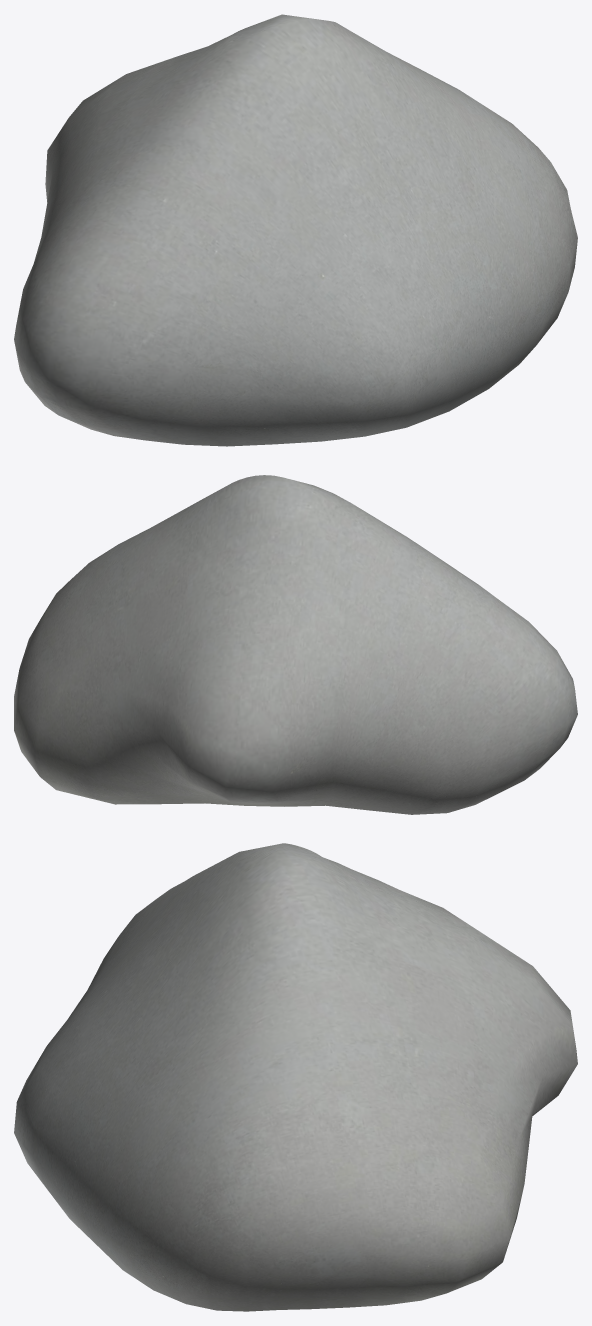
File: salt.glb
3 views of the same model, one above another, from view 1: azimuth 30°, elevation 25°; view 2: azimuth 150°, elevation 25°; view 3: azimuth 270°, elevation 25° (orthographic). The views are drawn at different scales.
Parts seen in each view (by area): view 1: salt; view 2: salt; view 3: salt.
Part boxes in pixels (x1,y1,x2,y2): salt: [14, 14, 577, 446]; salt: [14, 475, 577, 814]; salt: [14, 843, 577, 1311].
Bounding box in the file's own units: 0.1 × 0.0584 × 0.0833.
1 material, 1 textured.
